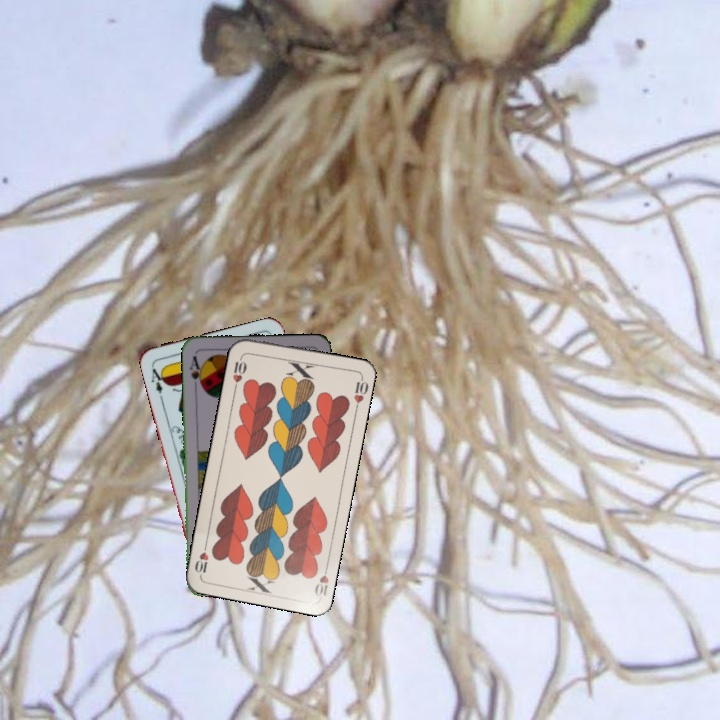EA: (147, 362, 168, 401)
H10: (229, 351, 249, 392), (310, 560, 331, 599)
SA: (186, 351, 205, 391)
